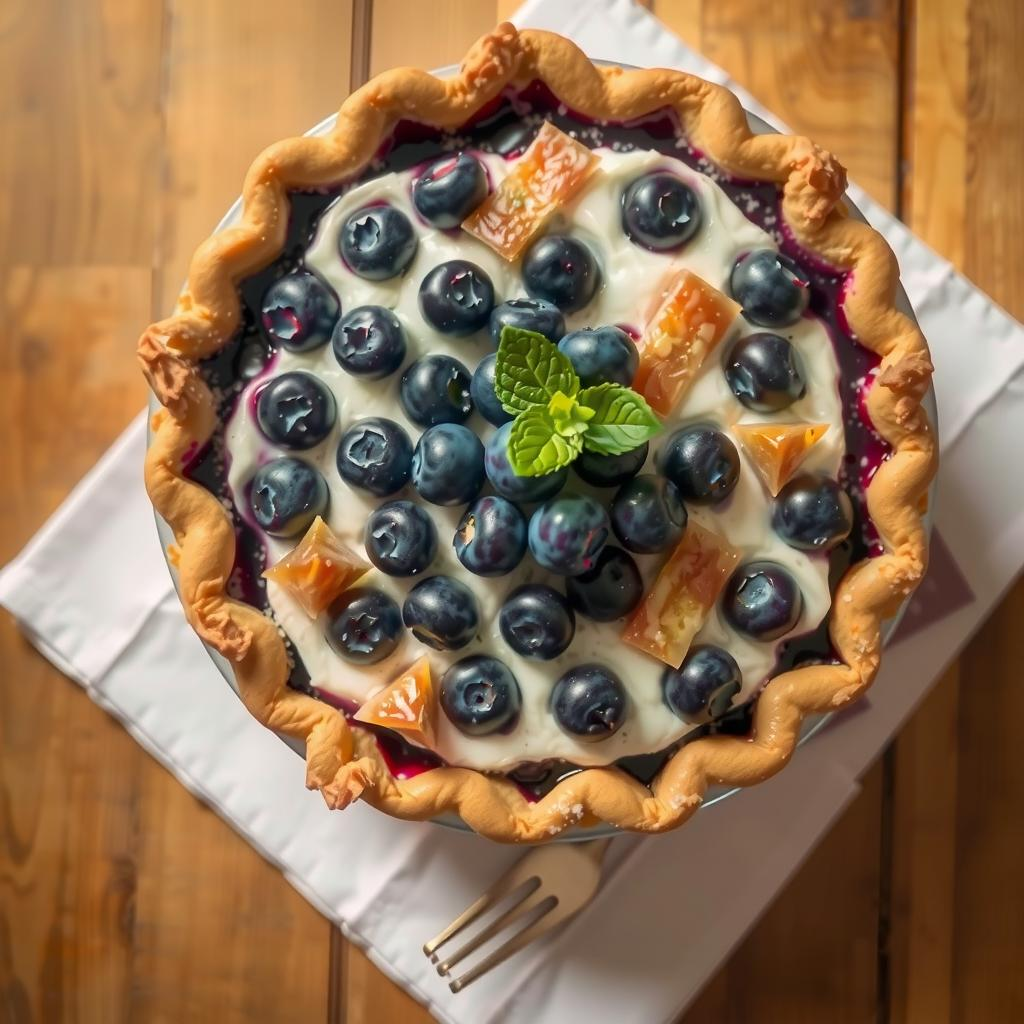pie: (133, 23, 947, 843)
